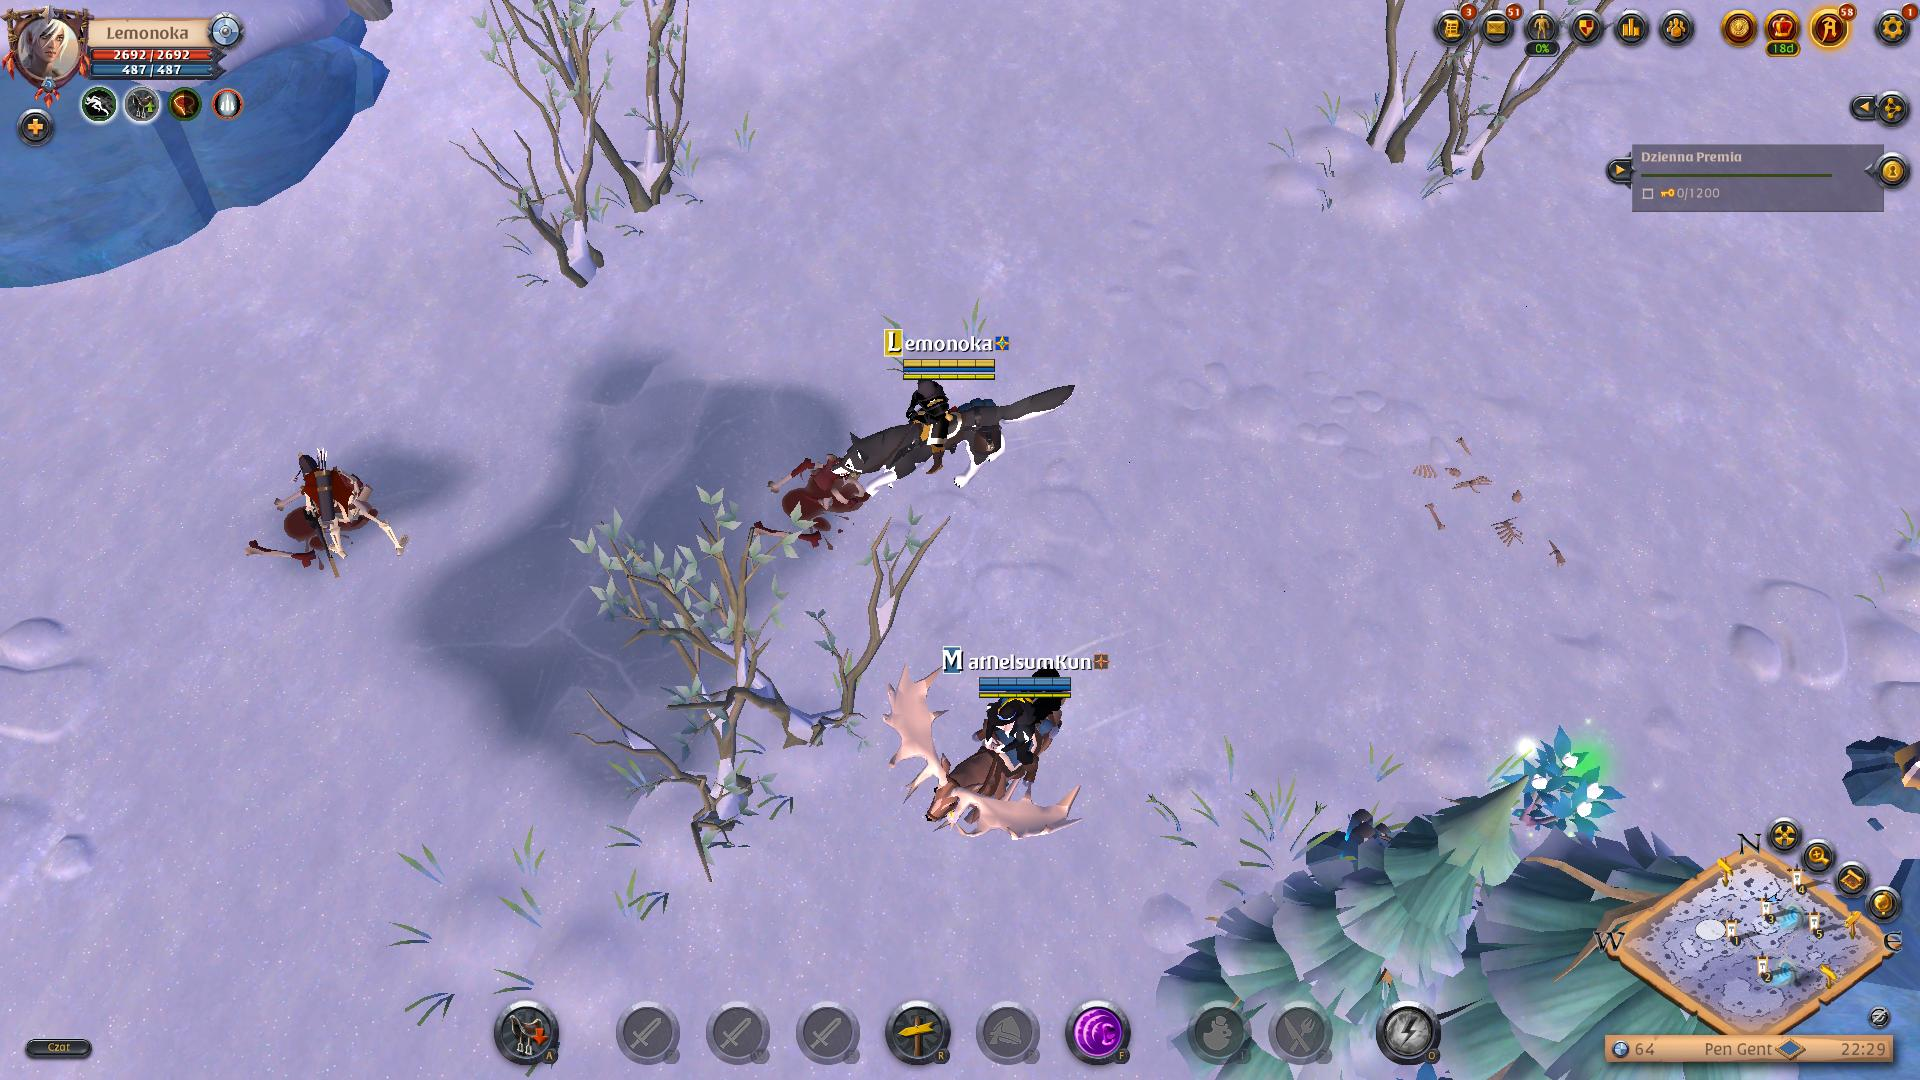fiber tier 4: (1505, 720, 1629, 845)
